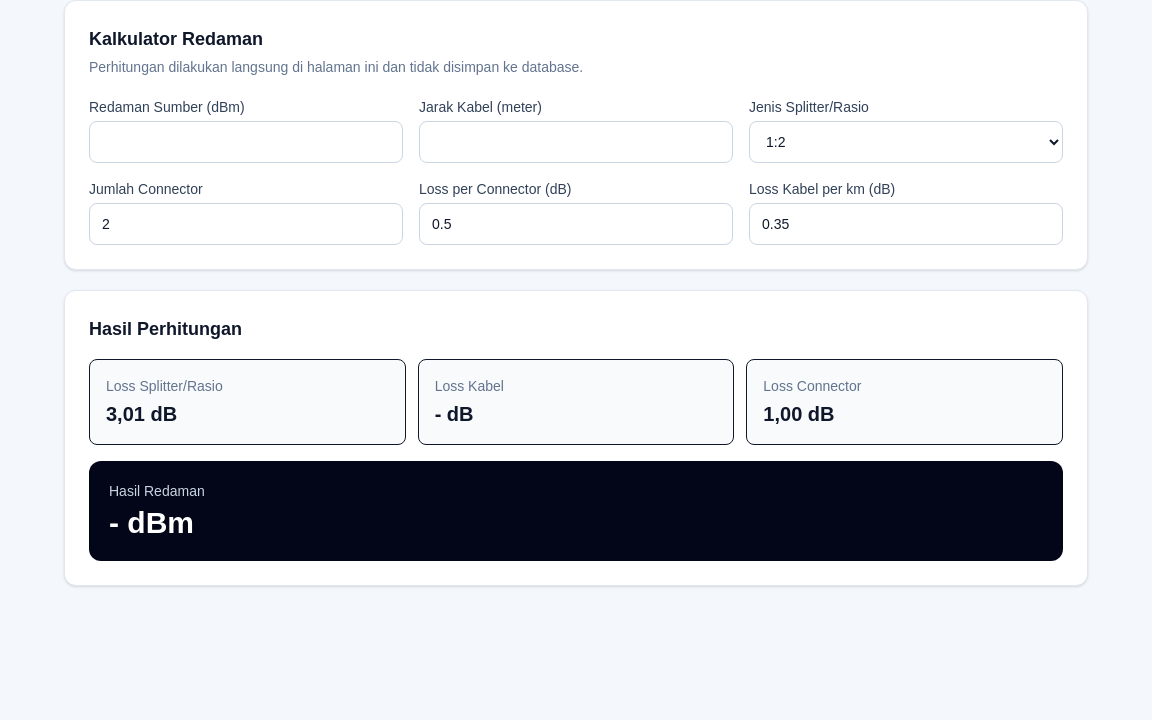
Test: optical attenuation calculator › shows and refreshes asymmetric paths and updates the result when selecting another splitter
The image size is (1152, 720).
Type "5" into the number field below "Redaman Sumber (dBm)" at (246, 142), box [89, 121, 403, 163]
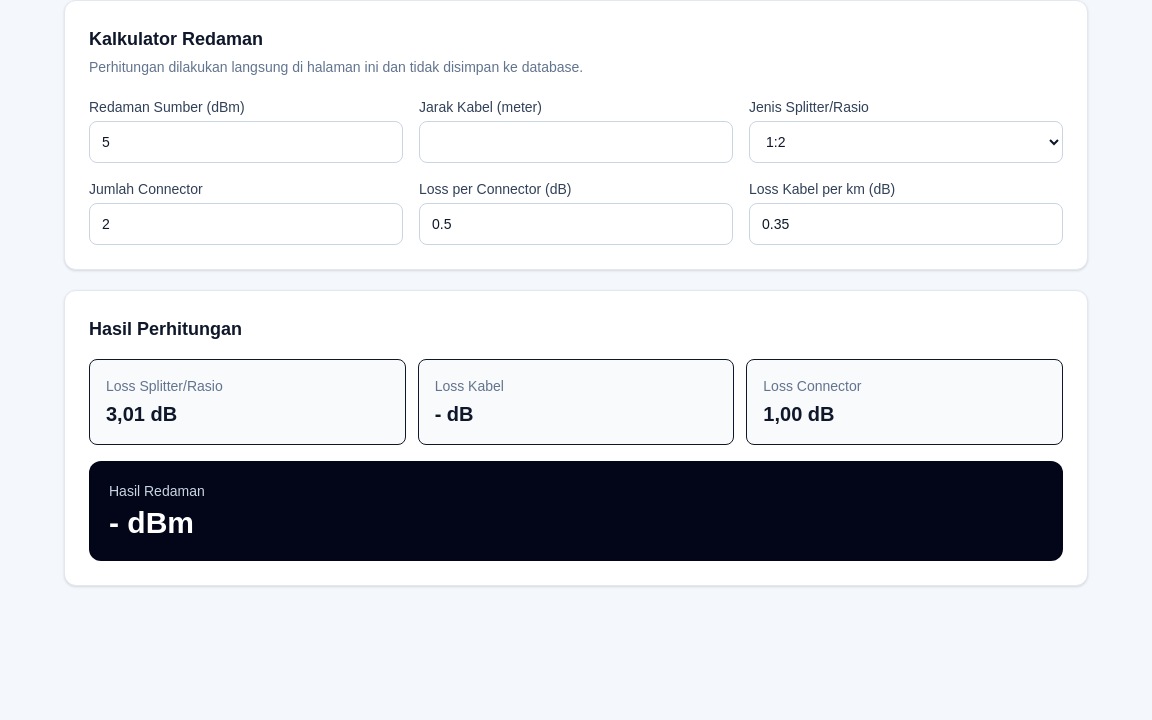
Type "500" into the number field below "Jarak Kabel (meter)" at (576, 142), box [419, 121, 733, 163]
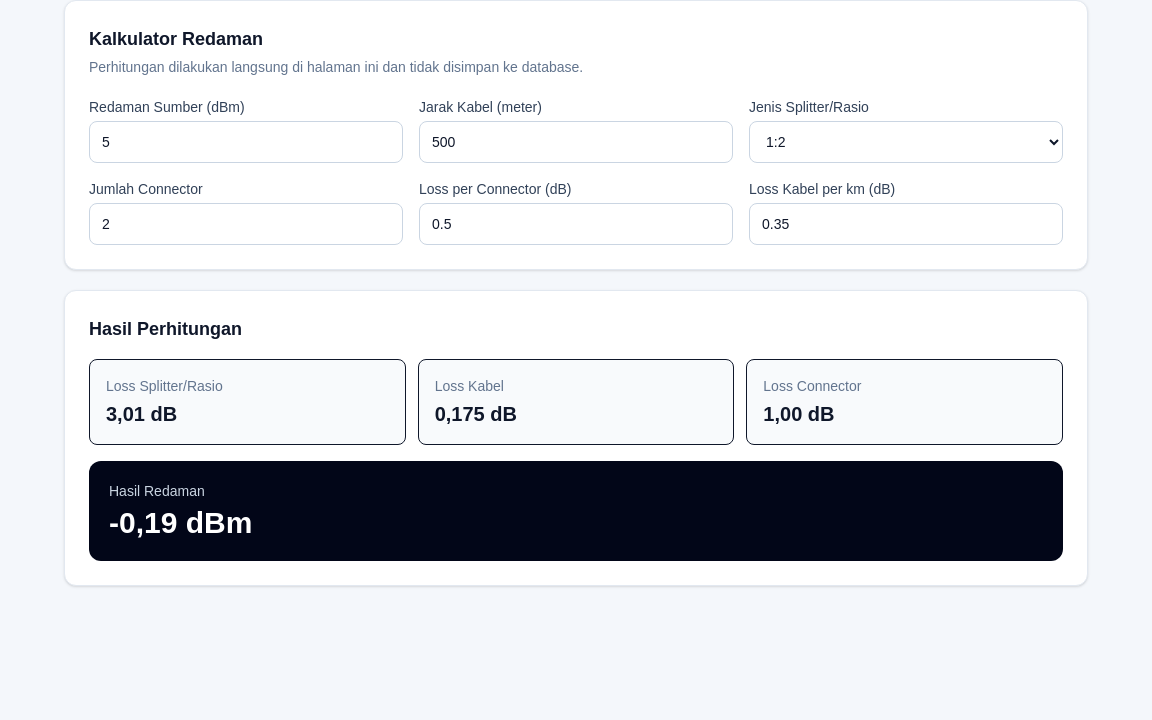
Select "70:30" in the dropdown at (906, 142), box [749, 121, 1063, 163]
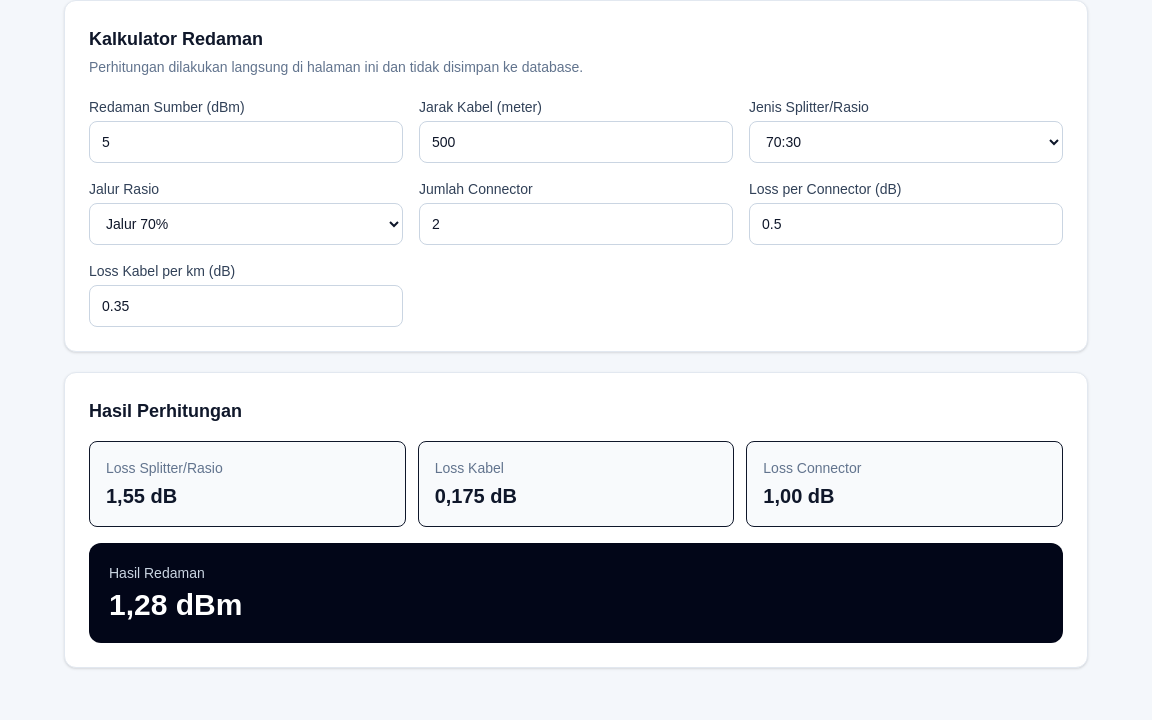
Expected: the text "1,55 dB" is shown, [106, 485, 177, 507]
Expected: the text "1,28 dBm" is shown, [109, 588, 242, 621]
Select "Jalur 30%" in the dropdown below "Jalur Rasio" at (246, 224), box [89, 203, 403, 245]
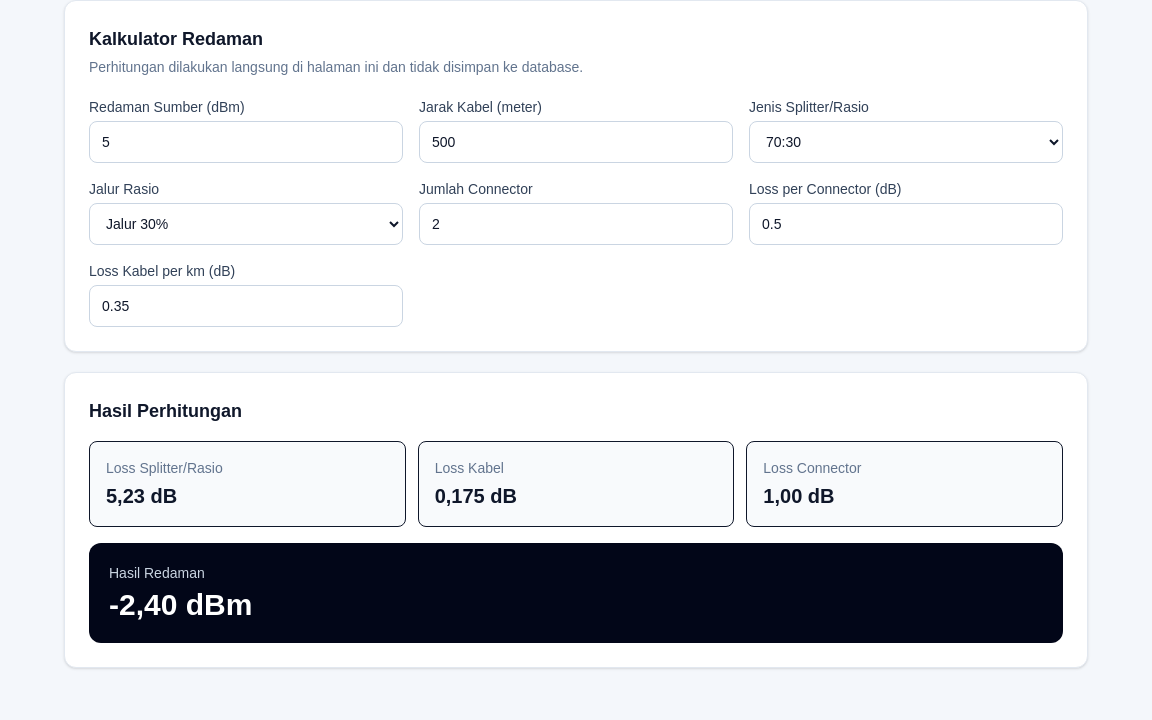
Expected: the text "5,23 dB" is shown, [106, 485, 177, 507]
Expected: the text "-2,40 dBm" is shown, [109, 588, 252, 621]
Select "90:10" in the dropdown below "Jenis Splitter/Rasio" at (906, 142), box [749, 121, 1063, 163]
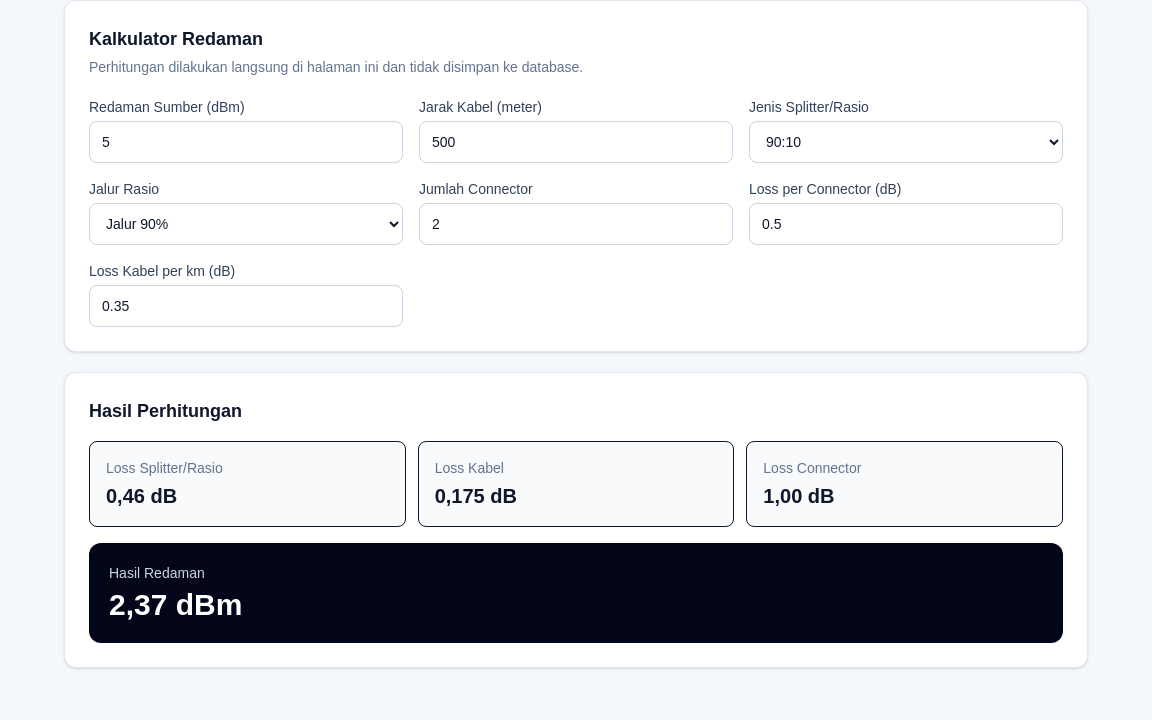
Expected: the text "0,46 dB" is shown, [106, 485, 177, 507]
Select "1:8" in the dropdown below "Jenis Splitter/Rasio" at (906, 142), box [749, 121, 1063, 163]
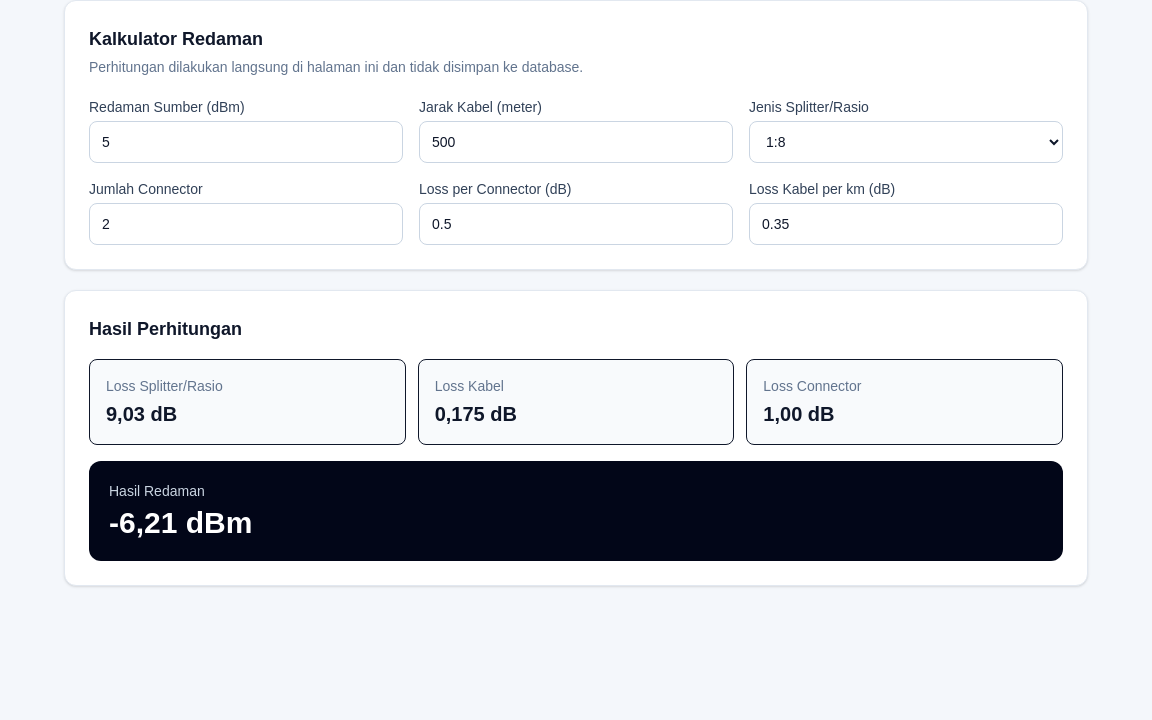
Expected: the number of dropdowns is 1, [749, 121, 1063, 163]
Expected: the text "9,03 dB" is shown, [106, 403, 177, 425]
